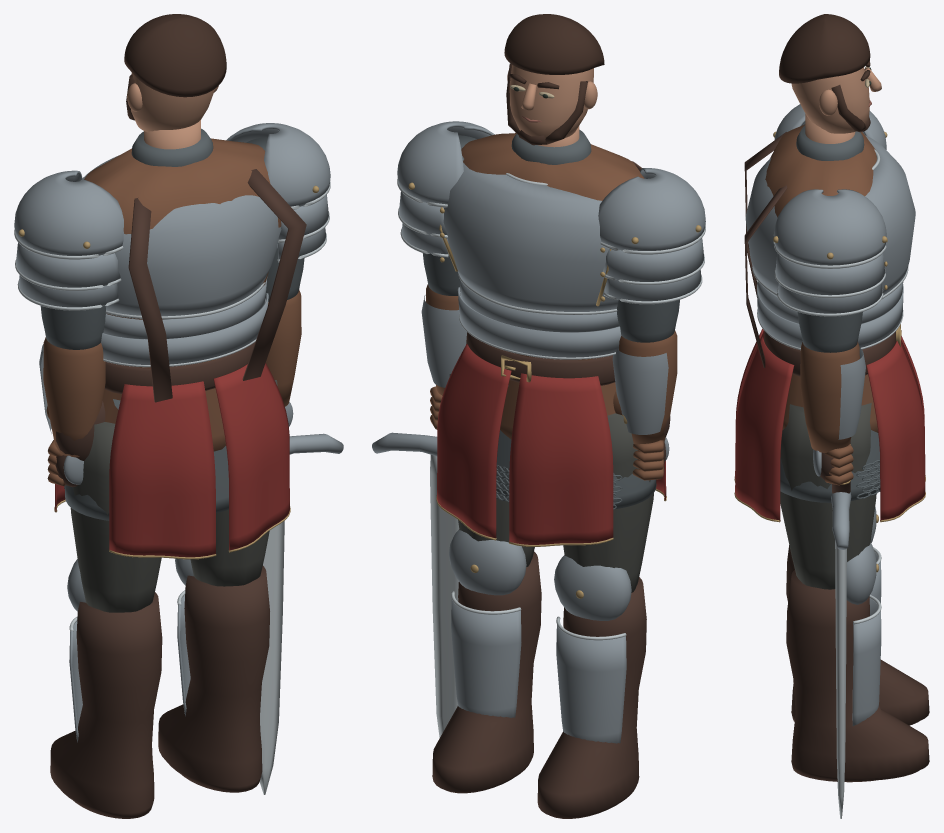
File: warrior-veteran.glb
The picture shows the model from 3 angles, left to right: view 1: azimuth 30°, elevation 25°; view 2: azimuth 150°, elevation 25°; view 3: azimuth 270°, elevation 25°; orthographic projection. The views are drawn at different scales.
Parts seen in each view (by area): view 1: Torso Paño granate, Torso Acero templado, LegLeft Cuero encerado, LegRight Cuero encerado, UpperLeft Acero templado, Torso Cuero encerado, Torso Jubón de avellana, LegLeft Calzas de carbón, Head Cabello castaño, UpperRight Acero templado, ForeLeft Jubón de avellana, Sword Filos bruñidos (+11 smaller); view 2: Torso Paño granate, Torso Acero templado, UpperLeft Acero templado, LegRight Cuero encerado, LegLeft Cuero encerado, LegLeft Acero templado, LegRight Acero templado, Torso Jubón de avellana, UpperRight Acero templado, Head Cabello castaño, Sword Filos bruñidos, LegLeft Calzas de carbón (+14 smaller); view 3: Torso Paño granate, LegRight Cuero encerado, UpperRight Acero templado, Torso Acero templado, LegRight Calzas de carbón, Torso Jubón de avellana, Head Cabello castaño, LegRight Acero templado, ForeRight Jubón de avellana, Head Piel tostada, Torso Anillas oscuras, Torso Cuero encerado (+11 smaller).
Boxes of the visible parts, <box> form: Torso Paño granate: <box>55,363,289,557</box>; Torso Acero templado: <box>80,155,281,364</box>; LegLeft Cuero encerado: <box>50,592,162,818</box>; LegRight Cuero encerado: <box>158,565,269,792</box>; UpperLeft Acero templado: <box>14,170,123,307</box>; Torso Cuero encerado: <box>56,169,306,460</box>; Torso Jubón de avellana: <box>46,138,281,451</box>; LegLeft Calzas de carbón: <box>70,422,161,612</box>; Head Cabello castaño: <box>124,14,226,120</box>; UpperRight Acero templado: <box>226,123,330,259</box>; ForeLeft Jubón de avellana: <box>43,337,105,457</box>; Sword Filos bruñidos: <box>259,521,284,794</box>; Torso Paño granate: <box>437,344,666,544</box>; Torso Acero templado: <box>443,162,621,357</box>; UpperLeft Acero templado: <box>598,168,705,301</box>; LegRight Cuero encerado: <box>432,551,541,793</box>; LegLeft Cuero encerado: <box>537,577,646,818</box>; LegLeft Acero templado: <box>554,555,631,743</box>; LegRight Acero templado: <box>449,529,526,717</box>; Torso Jubón de avellana: <box>461,133,644,439</box>; UpperRight Acero templado: <box>397,121,494,254</box>; Head Cabello castaño: <box>504,14,604,145</box>; Sword Filos bruñidos: <box>430,455,459,737</box>; LegLeft Calzas de carbón: <box>563,413,653,592</box>; Torso Paño granate: <box>735,329,925,520</box>; LegRight Cuero encerado: <box>786,569,929,782</box>; UpperRight Acero templado: <box>773,189,886,313</box>; Torso Acero templado: <box>745,135,915,347</box>; LegRight Calzas de carbón: <box>780,403,876,589</box>; Torso Jubón de avellana: <box>765,124,878,432</box>; Head Cabello castaño: <box>779,14,870,132</box>; LegRight Acero templado: <box>846,542,881,725</box>; ForeRight Jubón de avellana: <box>800,342,859,452</box>; Head Piel tostada: <box>791,67,881,143</box>; Torso Anillas oscuras: <box>780,125,880,502</box>; Torso Cuero encerado: <box>744,132,895,376</box>.
Size of the model in its own units: 0.8256 by 1.93 by 0.452.
